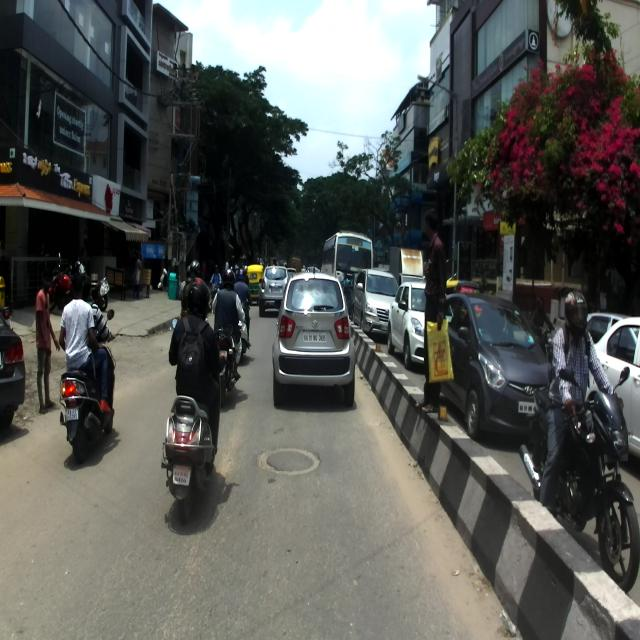car ahead at: (275, 273, 361, 410)
motorcycle ahead at: (562, 360, 640, 588), (156, 396, 221, 515), (55, 366, 119, 462)
person ahead at: (32, 273, 59, 407)
